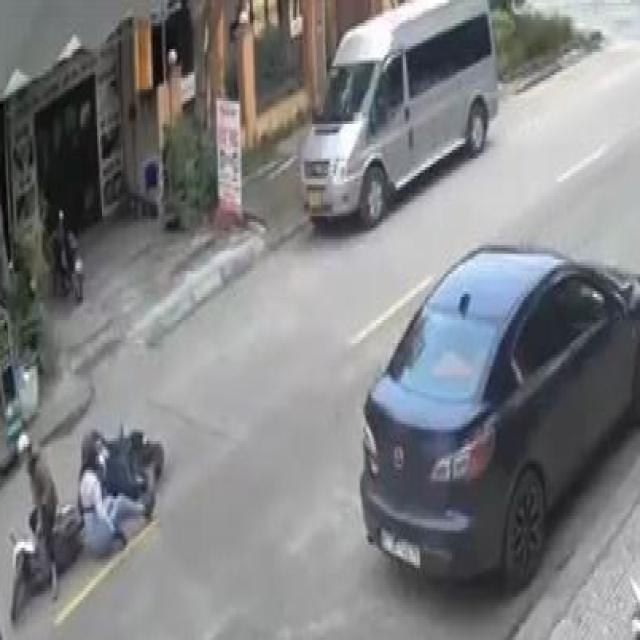accident: (3, 392, 169, 640)
